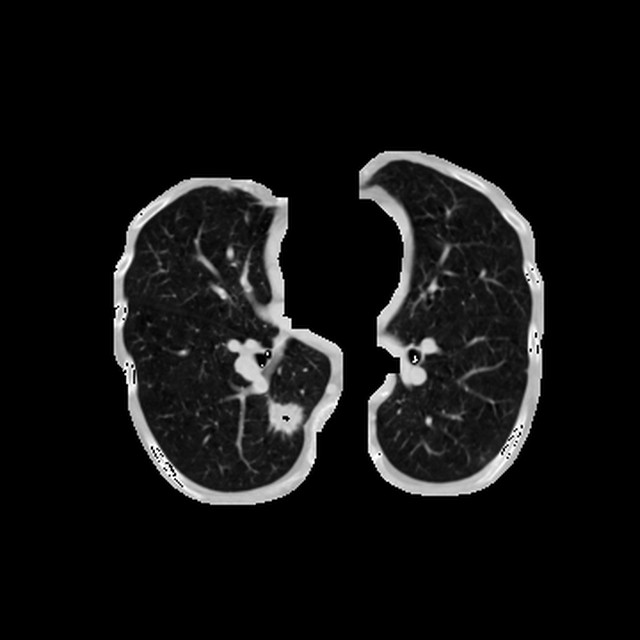PN: (268, 400, 300, 432)
